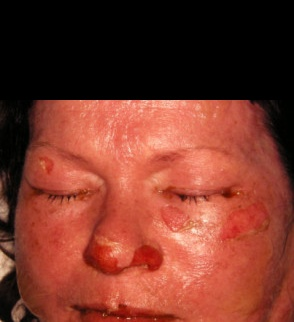SJS-TEN: (9, 96, 294, 322)
